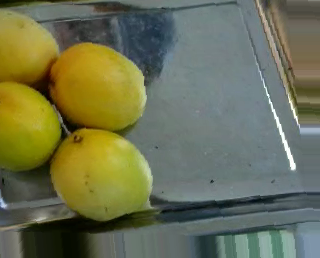Mango: (52, 128, 152, 218), (46, 42, 146, 129), (0, 82, 61, 170), (0, 9, 57, 86)
